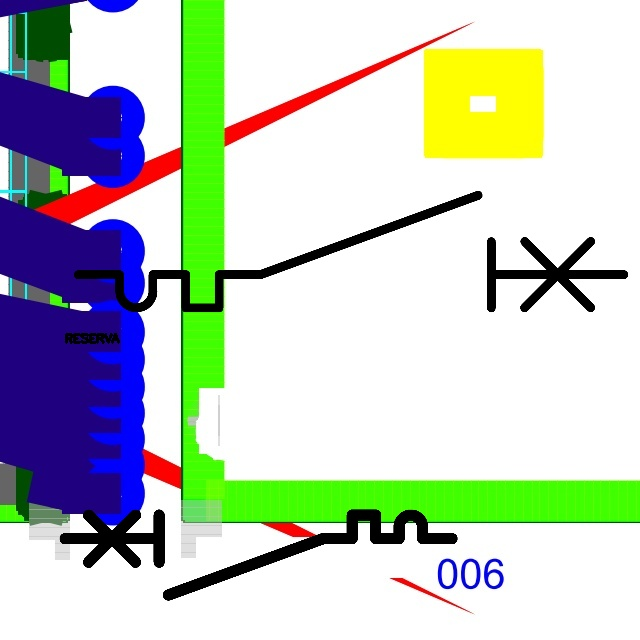interruptor_termomagnetico: (64, 181, 638, 322), (55, 505, 462, 604)
